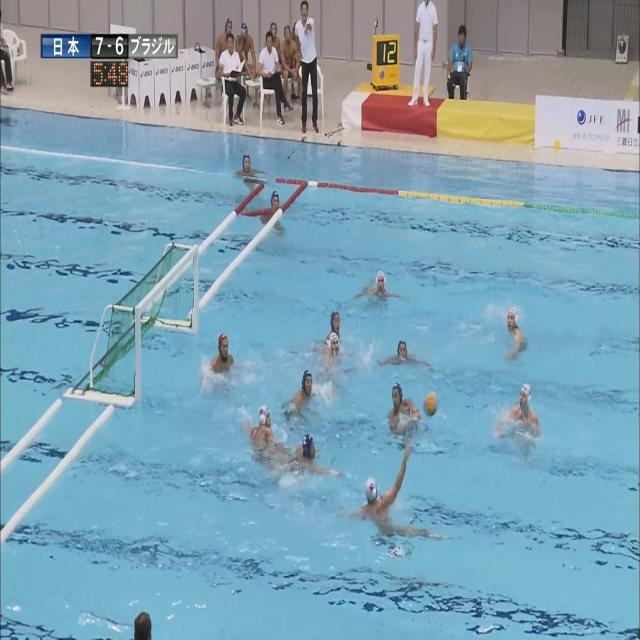ball: (423, 391, 437, 416)
